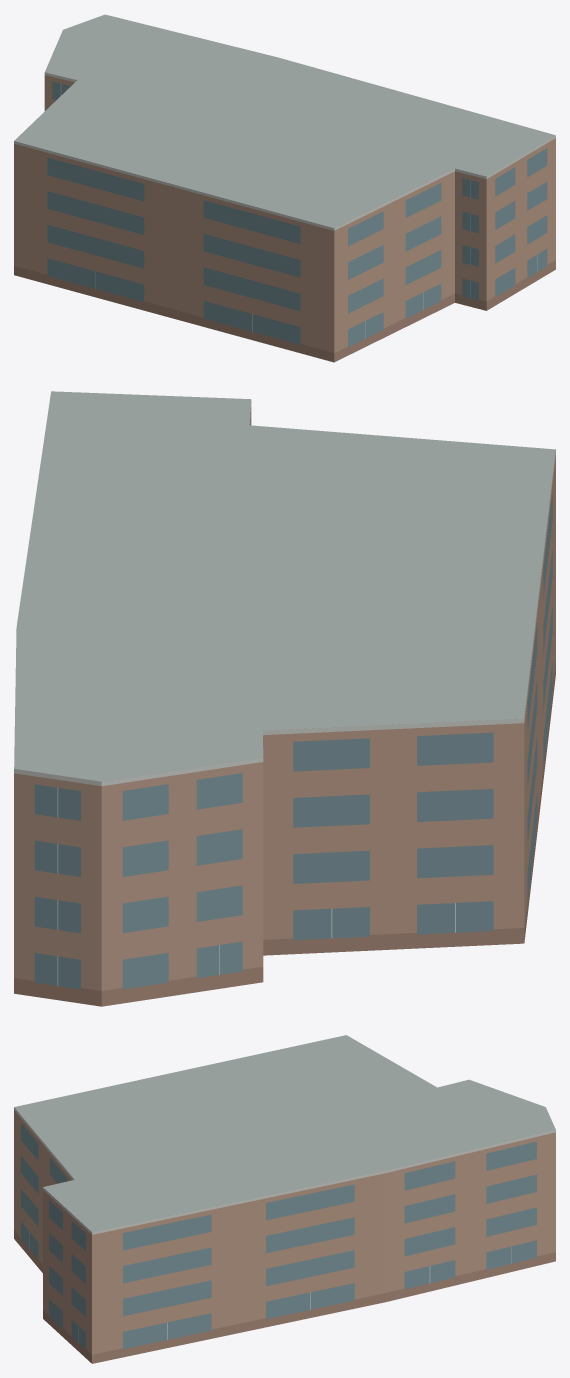
The model's file is residential-953a8174-3d35-43df-943e-cbc855b97984.glb.
3 views of the same model, one above another, from view 1: azimuth 30°, elevation 25°; view 2: azimuth 150°, elevation 25°; view 3: azimuth 270°, elevation 25° (orthographic). The views are drawn at different scales.
Parts seen in each view (by area): view 1: residential-953a8174-3d35-43df-943e-cbc855b97984.tmp; view 2: residential-953a8174-3d35-43df-943e-cbc855b97984.tmp; view 3: residential-953a8174-3d35-43df-943e-cbc855b97984.tmp.
Part boxes in pixels (x1,y1,x2,y2): residential-953a8174-3d35-43df-943e-cbc855b97984.tmp: (14,14,555,362); residential-953a8174-3d35-43df-943e-cbc855b97984.tmp: (14,391,555,1006); residential-953a8174-3d35-43df-943e-cbc855b97984.tmp: (14,1035,555,1363).
Bounding box in the file's own units: 39.21 × 12.2 × 45.52.
